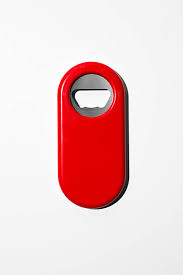bottleopener: (57, 61, 131, 211)
